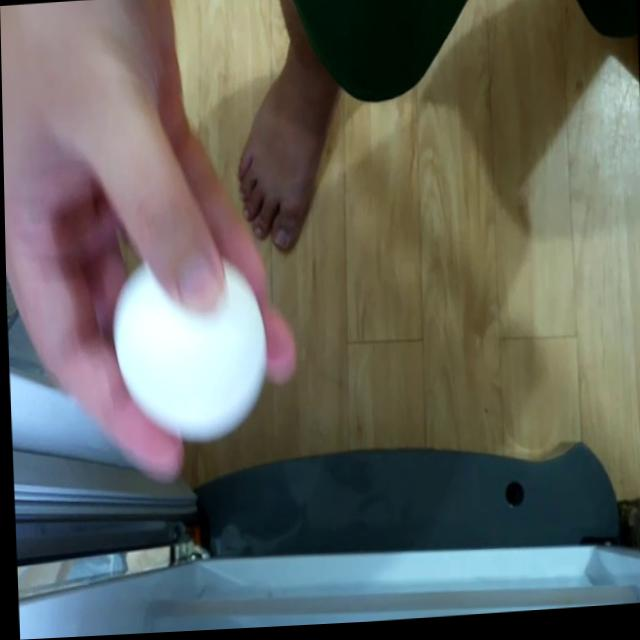egg: (101, 244, 267, 455)
